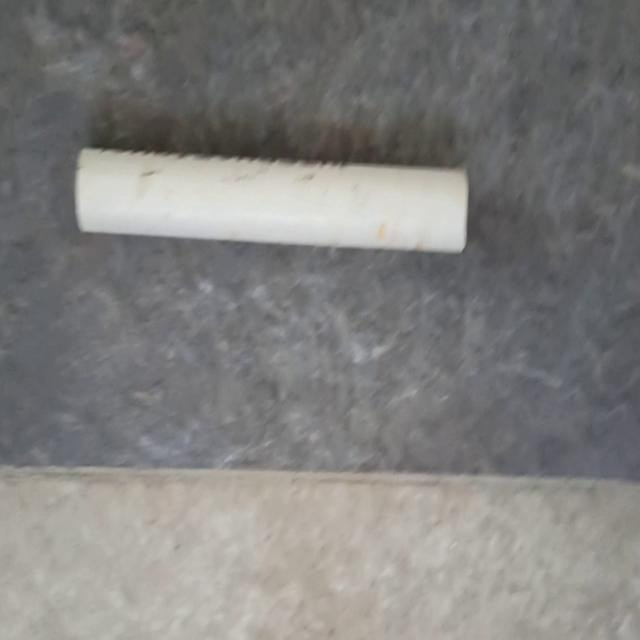Cube: (73, 142, 470, 255)
